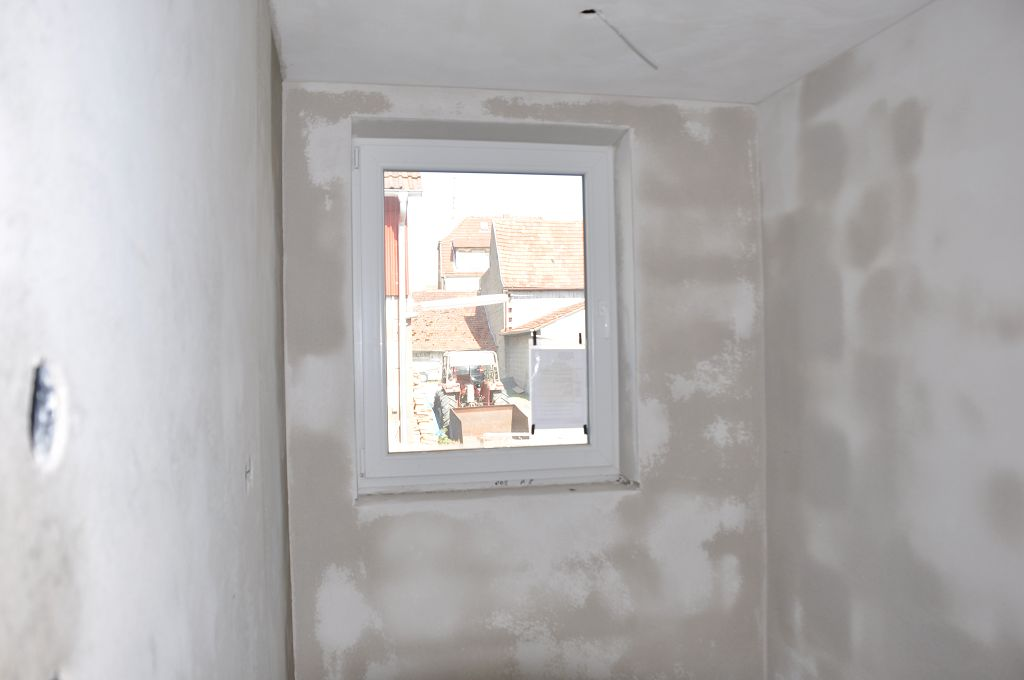windows: (351, 131, 625, 480)
